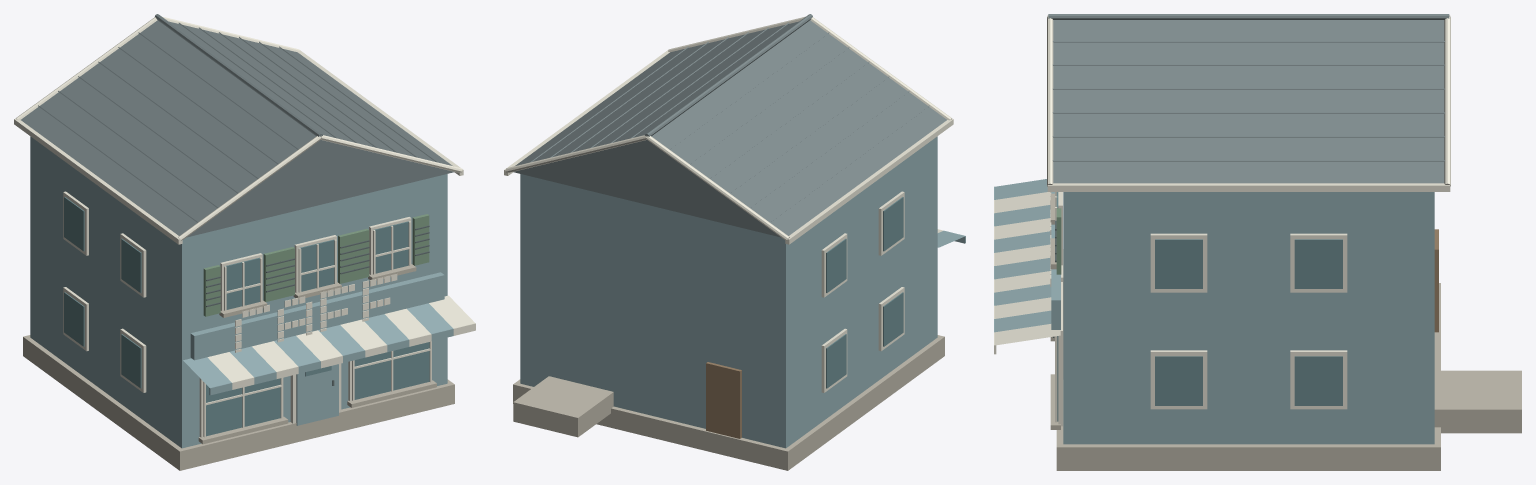
3 views of the same model, side by side, from view 1: azimuth 30°, elevation 25°; view 2: azimuth 150°, elevation 25°; view 3: azimuth 270°, elevation 25° (orthographic). The views are drawn at different scales.
Size of the model in its own units: 9.23 by 9.47 by 12.09.
